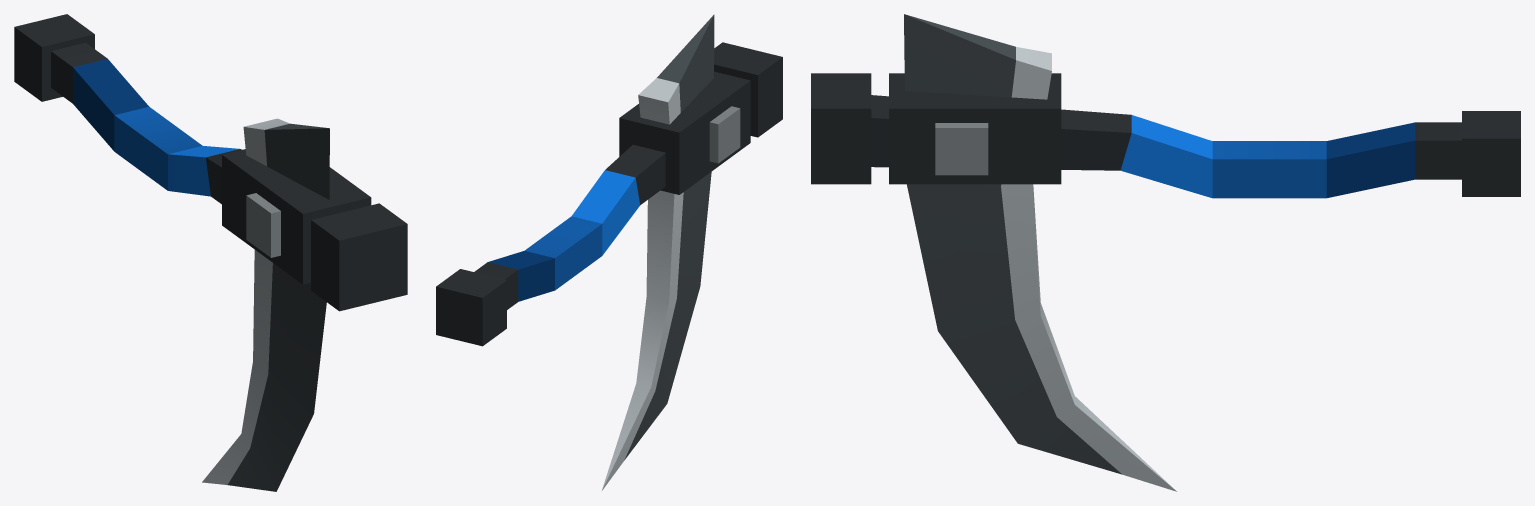
The model's file is Scythe 01.FBX.
The picture shows the model from 3 angles, left to right: view 1: azimuth 30°, elevation 25°; view 2: azimuth 150°, elevation 25°; view 3: azimuth 270°, elevation 25°; orthographic projection. The views are drawn at different scales.
Parts seen in each view (by area): view 1: Scythe 01; view 2: Scythe 01; view 3: Scythe 01.
Boxes of the visible parts, bbox=[...] form: Scythe 01: bbox=[14, 14, 407, 491]; Scythe 01: bbox=[436, 14, 782, 490]; Scythe 01: bbox=[811, 14, 1520, 491].
Bounding box in the file's own units: 14.8 × 71.93 × 96.81.
1 material, 1 textured.
